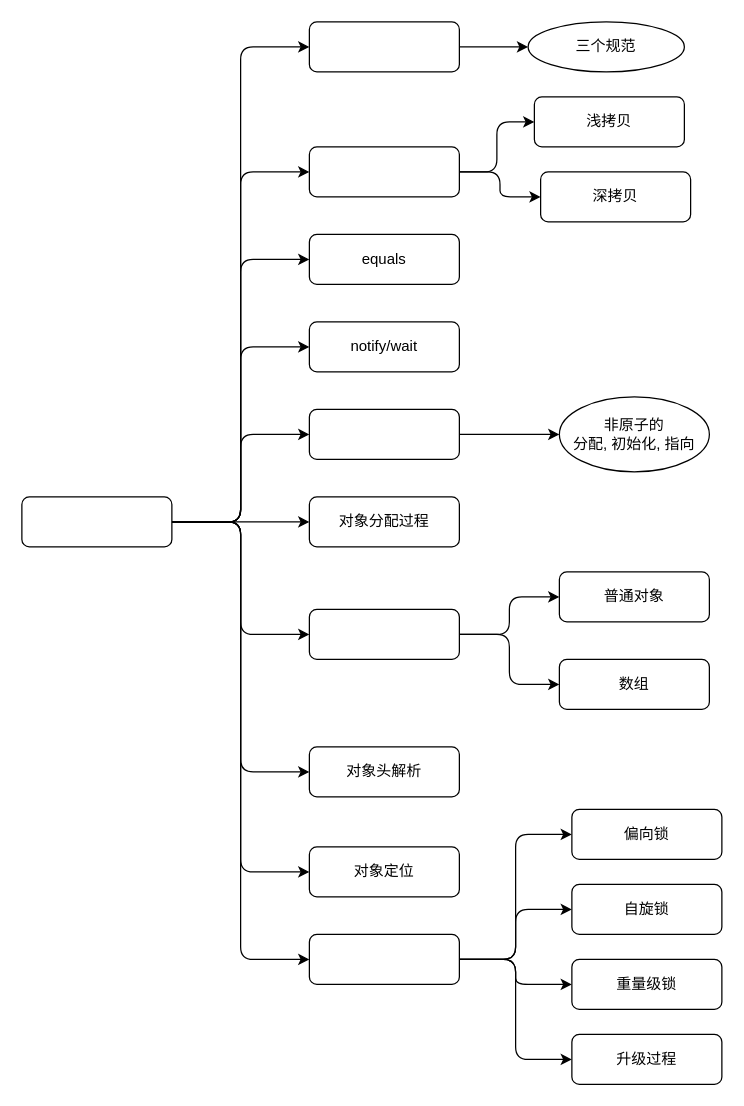
Image size: 744x1106. Some labels were removed from this diagram. Each missing label, with the box of its shape:
clone: (308, 146, 459, 197)
hashcode: (308, 21, 459, 72)
Object: (21, 496, 172, 547)
内存中布局: (308, 608, 459, 659)
对象创建过程: (308, 408, 459, 459)
对象的锁: (308, 933, 459, 984)
